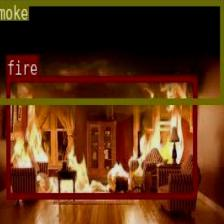fire: (7, 75, 196, 198)
smoke: (0, 0, 223, 103)
